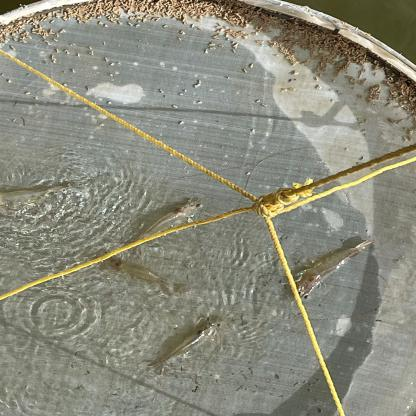shrimp: (287, 239, 375, 301), (144, 315, 224, 376), (95, 251, 192, 298), (131, 195, 205, 244), (0, 184, 72, 208)
